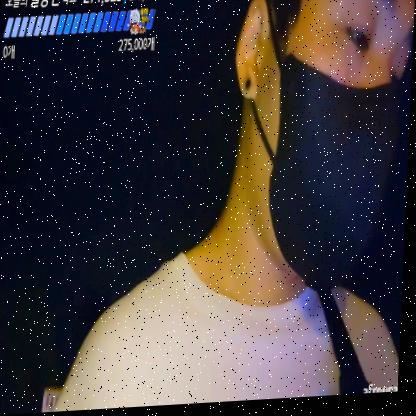streamer: (46, 0, 416, 413)
